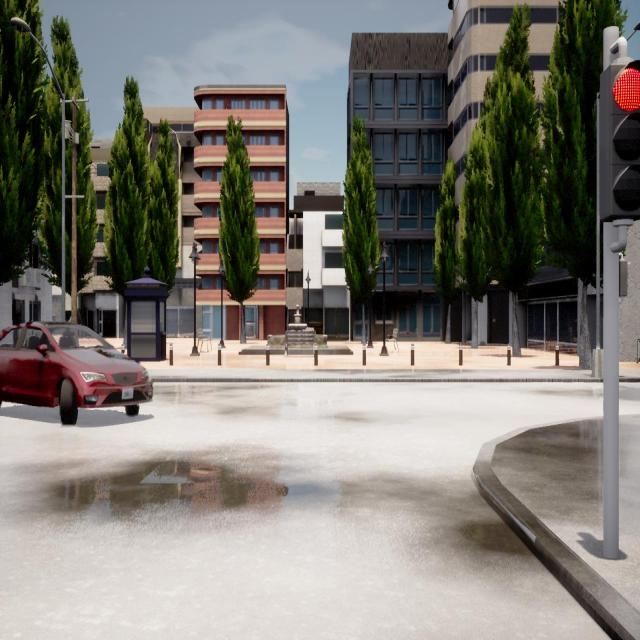Vehicle: (0, 322, 152, 424)
traffic_light: (600, 66, 640, 220), (619, 261, 628, 295)
